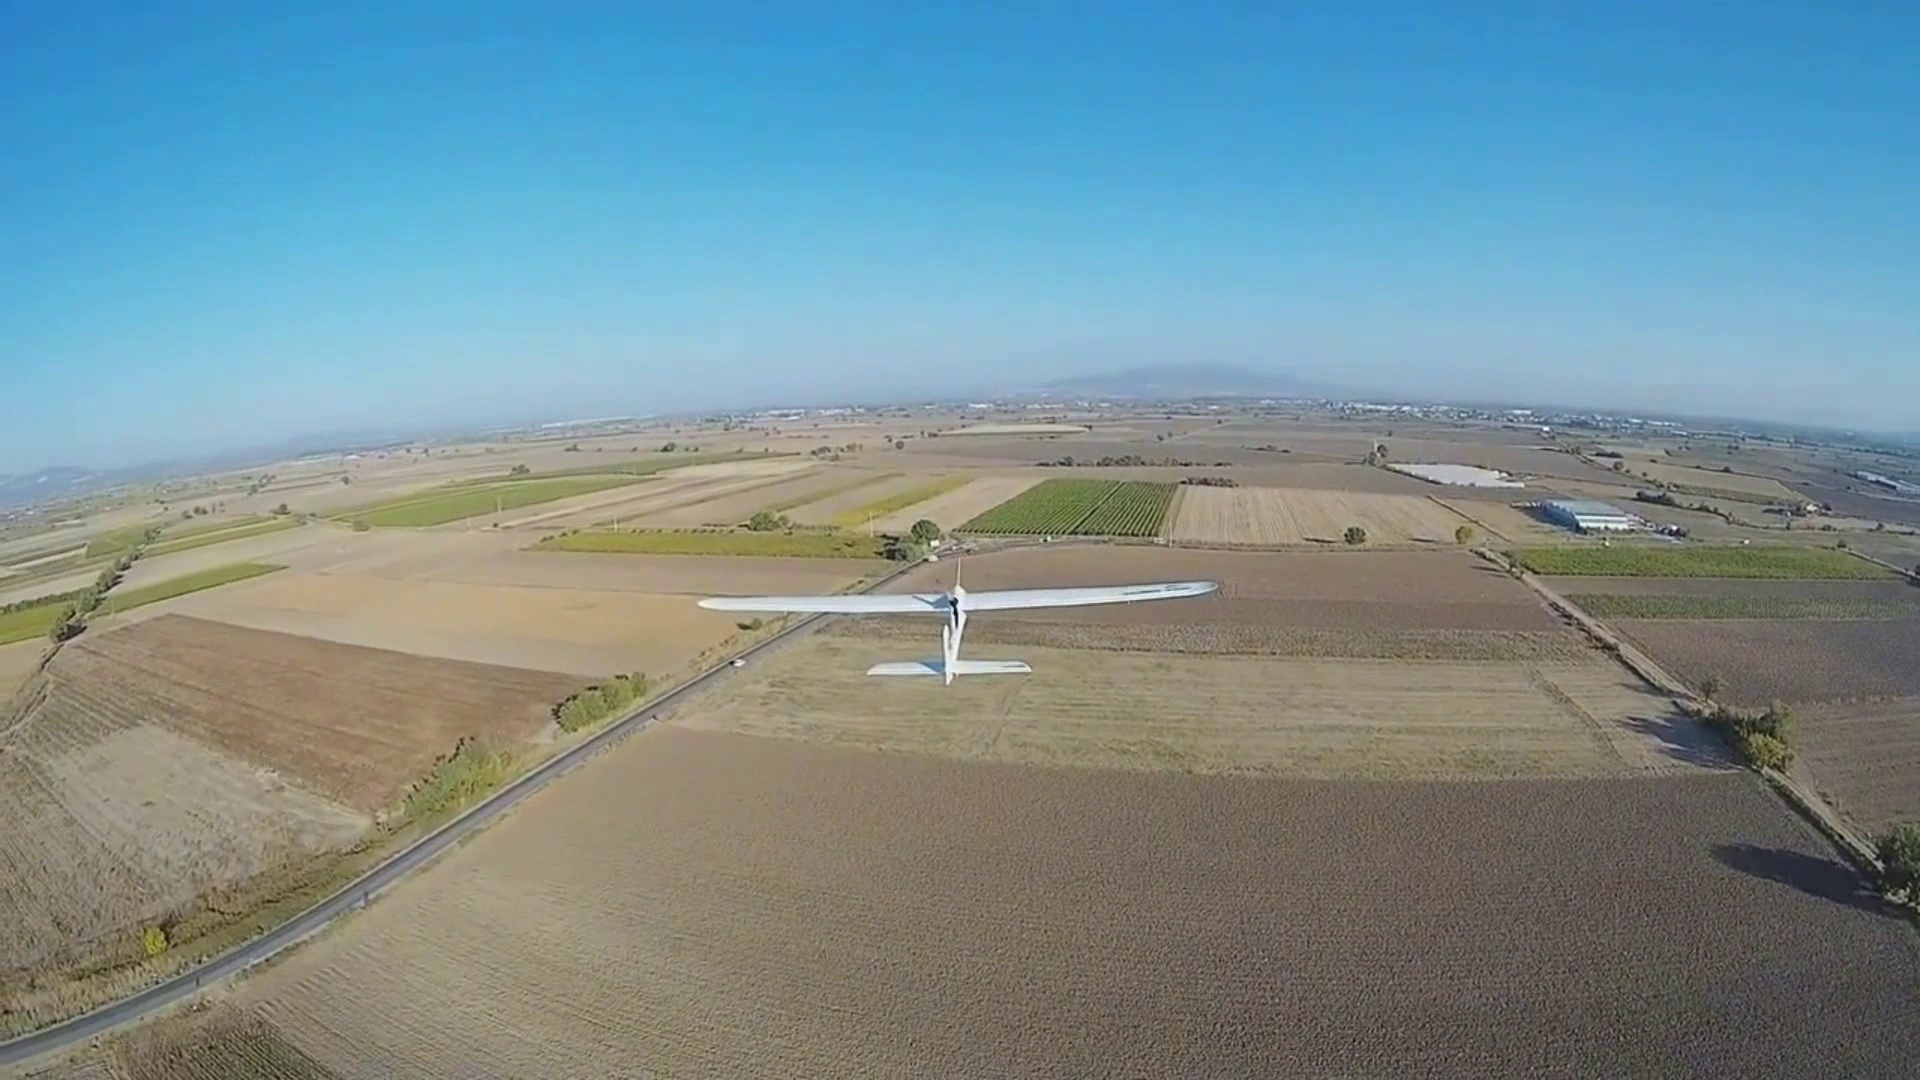airplane: (696, 530, 1224, 684)
